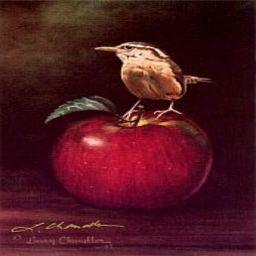apple: (46, 116, 211, 215)
